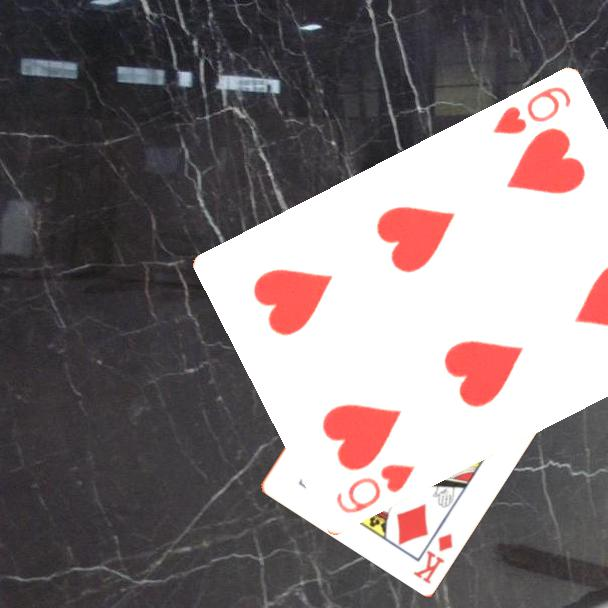d13: (410, 529, 456, 587)
h06: (332, 461, 418, 518), (489, 83, 574, 138)
